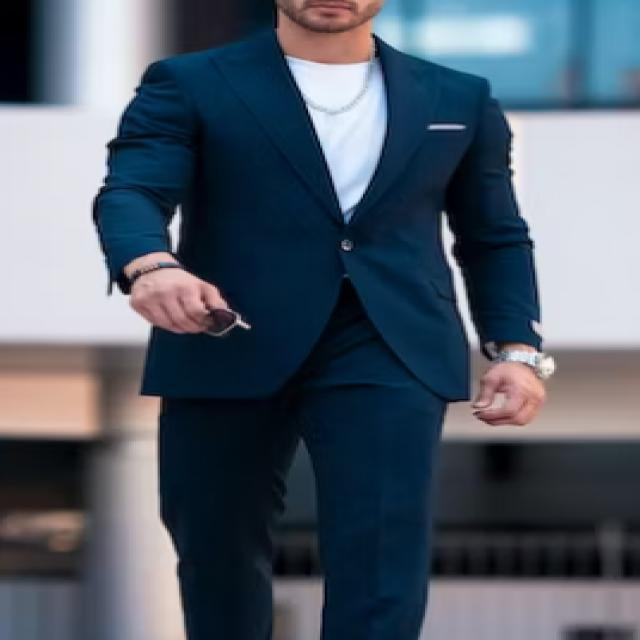Watch: (484, 341, 572, 382)
